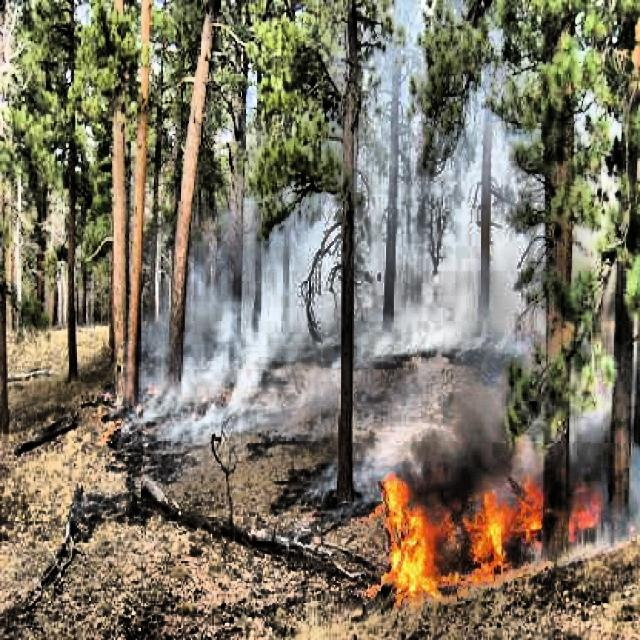Fire: (379, 468, 601, 600)
